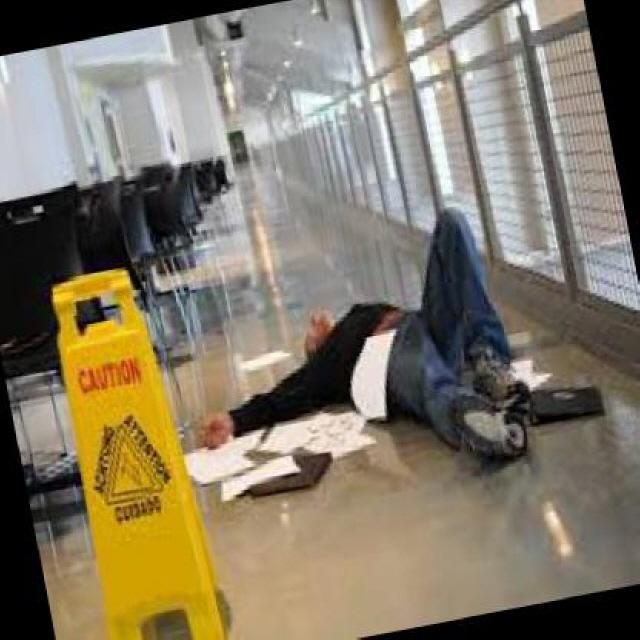Fall: (201, 211, 537, 458)
